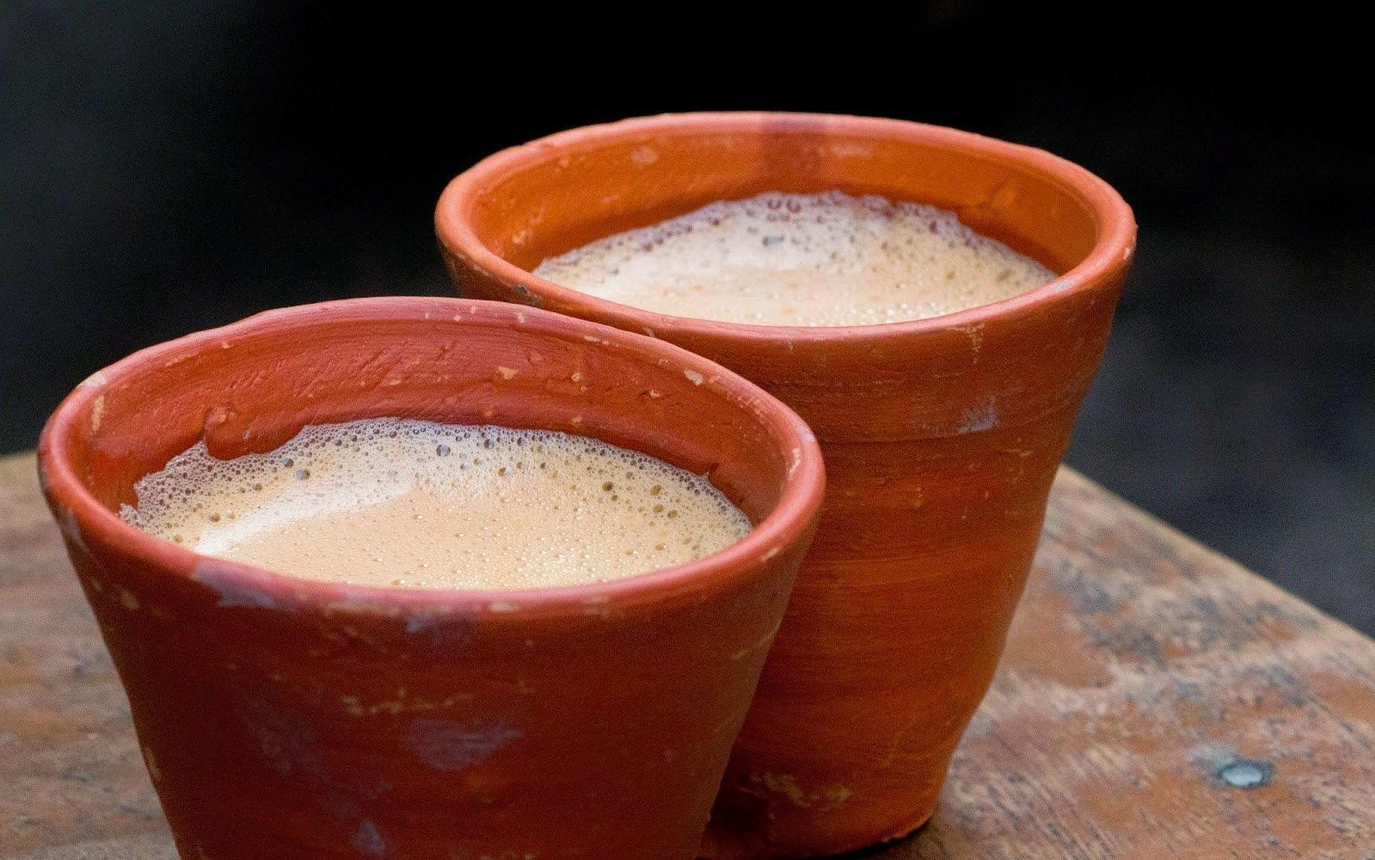Chai: (115, 415, 749, 576), (535, 191, 1072, 315)
